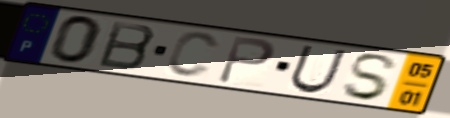0: (45, 15, 109, 66)
B: (94, 19, 159, 72)
C: (163, 30, 222, 80)
P: (214, 34, 278, 86)
S: (340, 52, 400, 102)
U: (287, 43, 350, 95)
